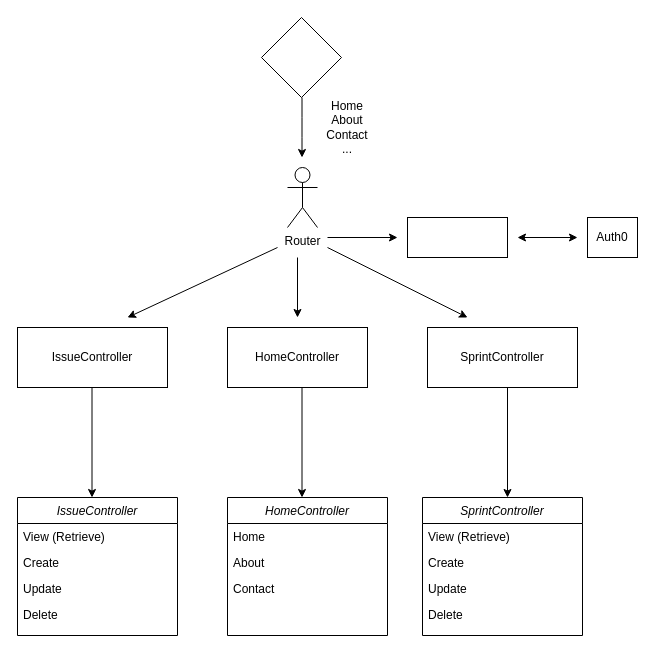
Some shapes in this 655 by 653 pixel diagram are drawn without their labels. The centre of each missing label's shape, as x and y in pixels:
"AuthController" goes at (457,237).
"HTTP GET" goes at (301,57).
